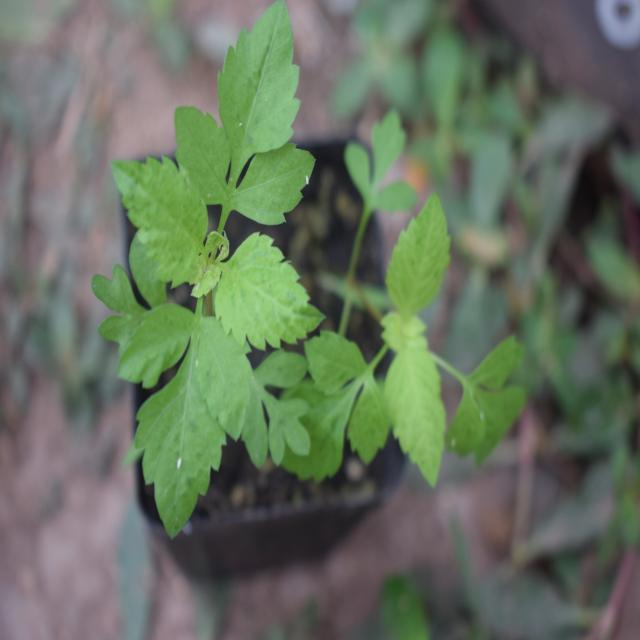Bidens pilosa: (83, 0, 320, 516), (298, 169, 536, 494)
